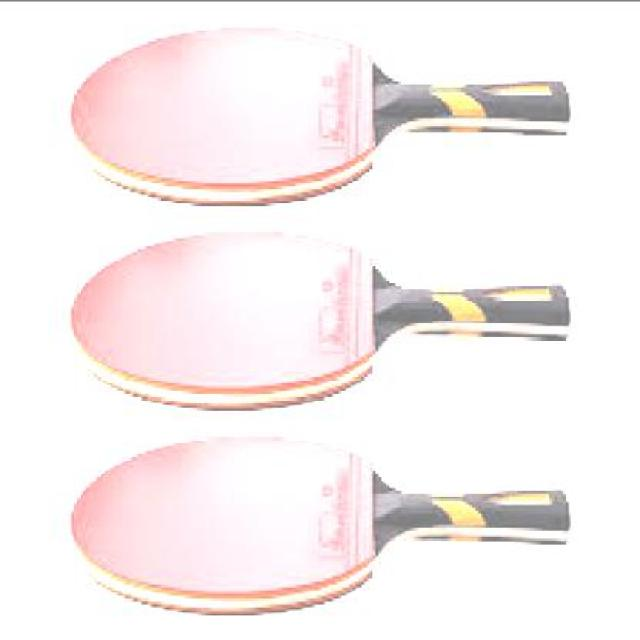table_tennis_racket: (61, 220, 396, 418), (59, 19, 392, 213), (64, 429, 396, 622)
